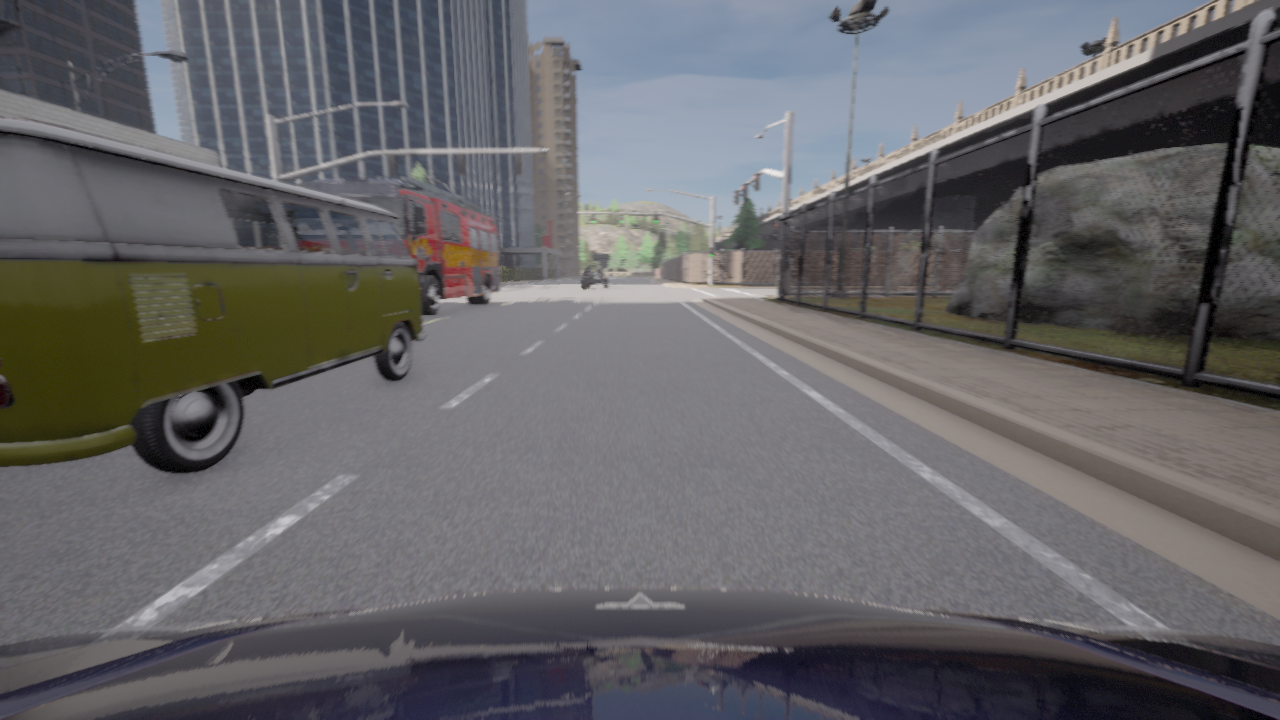cyclist: (0, 588, 1279, 719), (298, 177, 499, 315), (581, 265, 608, 288)
